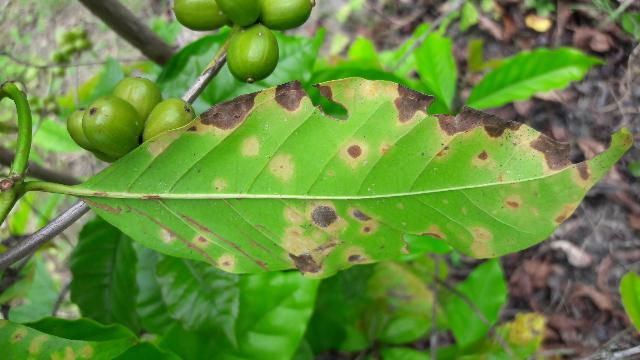rust_level_3: (70, 78, 633, 275)
